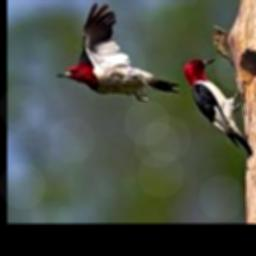Woodpecker: (56, 2, 180, 101), (182, 57, 253, 157)
